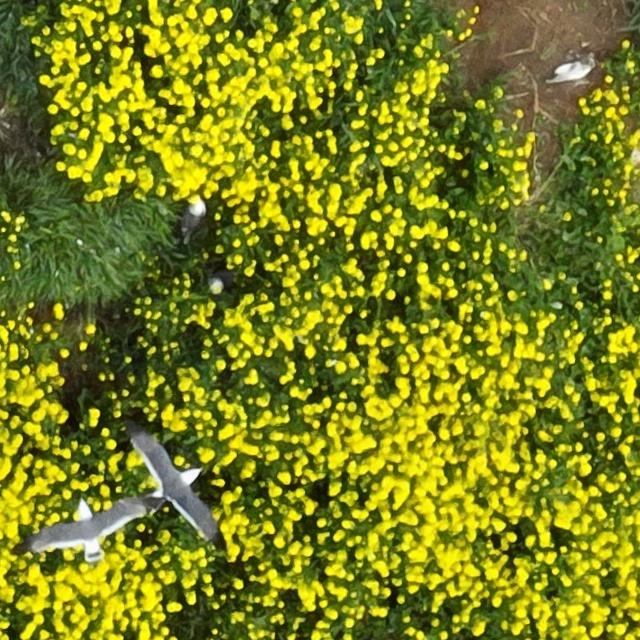F: (140, 441, 214, 526), (40, 499, 144, 552)
umineko: (182, 201, 205, 235), (210, 267, 235, 291)
